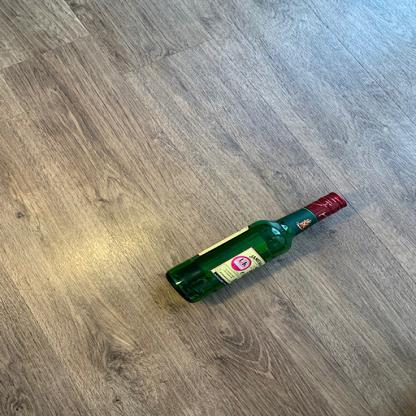trash: (161, 190, 349, 306)
